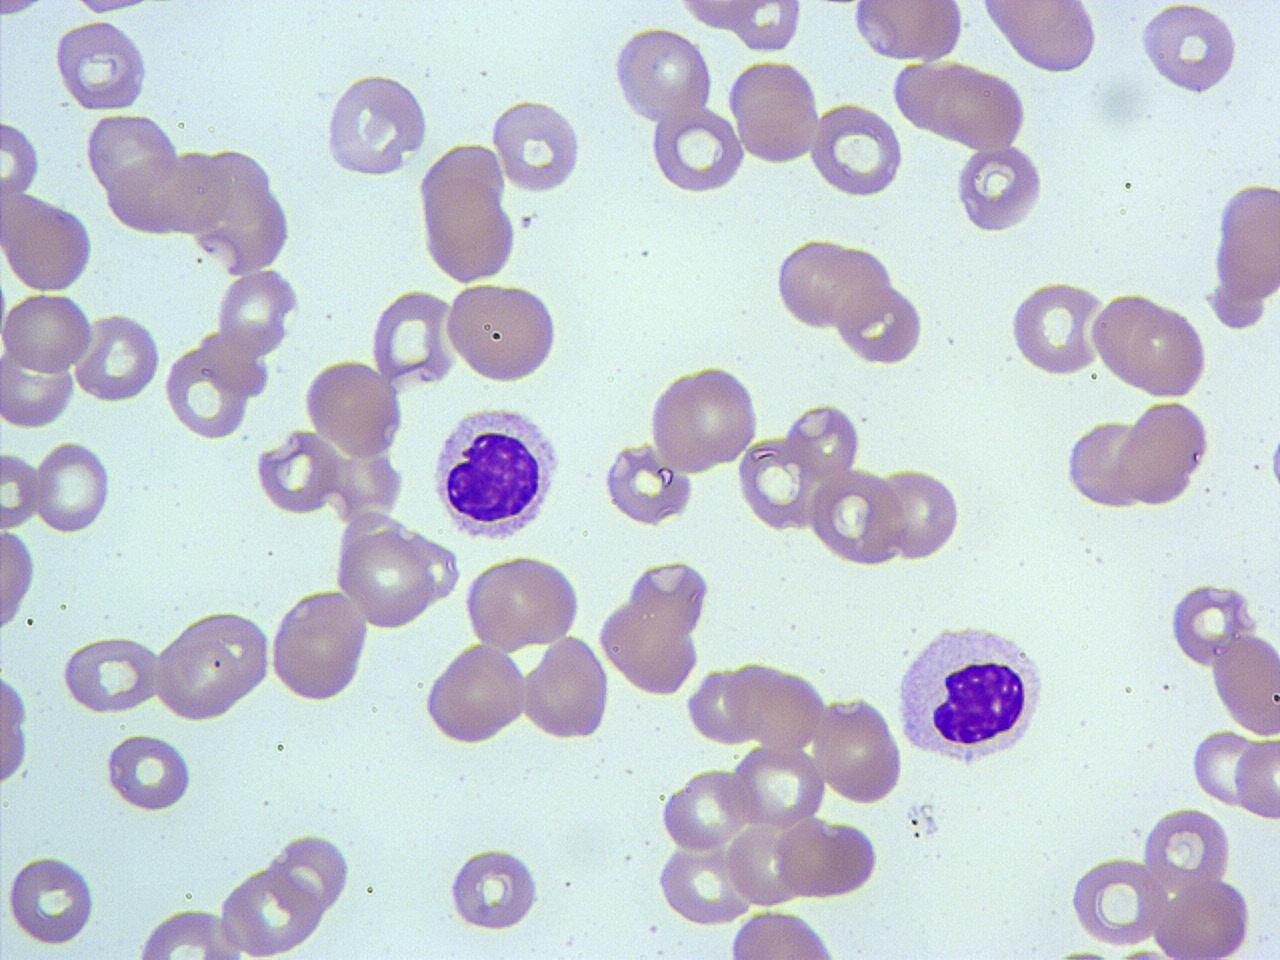Platelets: (1089, 73, 1151, 133), (1268, 427, 1280, 498)
RBC: (415, 144, 521, 286), (153, 609, 272, 724), (1090, 290, 1212, 402), (648, 362, 762, 474), (320, 67, 431, 181), (266, 586, 370, 706), (896, 61, 1031, 153), (444, 281, 562, 386), (463, 550, 584, 652), (422, 640, 530, 748), (596, 595, 704, 698), (1114, 400, 1212, 510), (608, 25, 716, 124), (805, 465, 908, 568), (303, 356, 406, 459), (727, 55, 823, 165), (814, 694, 906, 806), (0, 187, 97, 293), (336, 530, 437, 630), (1136, 2, 1242, 97), (520, 634, 613, 742), (806, 101, 908, 199), (220, 864, 326, 958), (489, 96, 587, 196), (1070, 851, 1168, 950), (1008, 278, 1104, 379), (3, 852, 100, 951), (771, 236, 871, 332), (50, 18, 150, 114), (368, 287, 461, 390), (646, 102, 749, 195), (160, 341, 253, 442), (776, 814, 882, 900), (656, 839, 756, 929), (978, 1, 1101, 74), (952, 142, 1047, 236), (446, 842, 543, 934), (1150, 874, 1256, 958), (59, 632, 162, 718), (1139, 804, 1235, 896), (736, 432, 822, 534), (82, 111, 183, 197), (732, 741, 828, 831), (1212, 178, 1280, 304), (832, 279, 928, 368), (73, 309, 161, 406), (880, 463, 962, 564), (600, 440, 694, 528), (214, 265, 302, 359), (1, 289, 93, 376), (33, 436, 112, 536), (1210, 628, 1280, 740), (658, 765, 748, 851), (1168, 578, 1252, 670), (102, 732, 194, 816), (254, 428, 338, 518), (268, 828, 352, 917), (1, 332, 79, 427), (726, 818, 806, 910), (1065, 417, 1143, 510), (848, 1, 965, 62), (131, 904, 250, 960), (1189, 726, 1265, 811), (724, 906, 845, 958), (786, 400, 862, 482), (1231, 732, 1279, 822), (0, 526, 38, 636), (728, 0, 804, 54), (1, 666, 31, 793), (0, 117, 44, 202), (1, 447, 43, 530), (672, 0, 762, 32), (67, 0, 158, 19)
WBC: (891, 616, 1051, 770), (429, 400, 567, 546), (321, 67, 433, 182), (1135, 0, 1241, 99)
